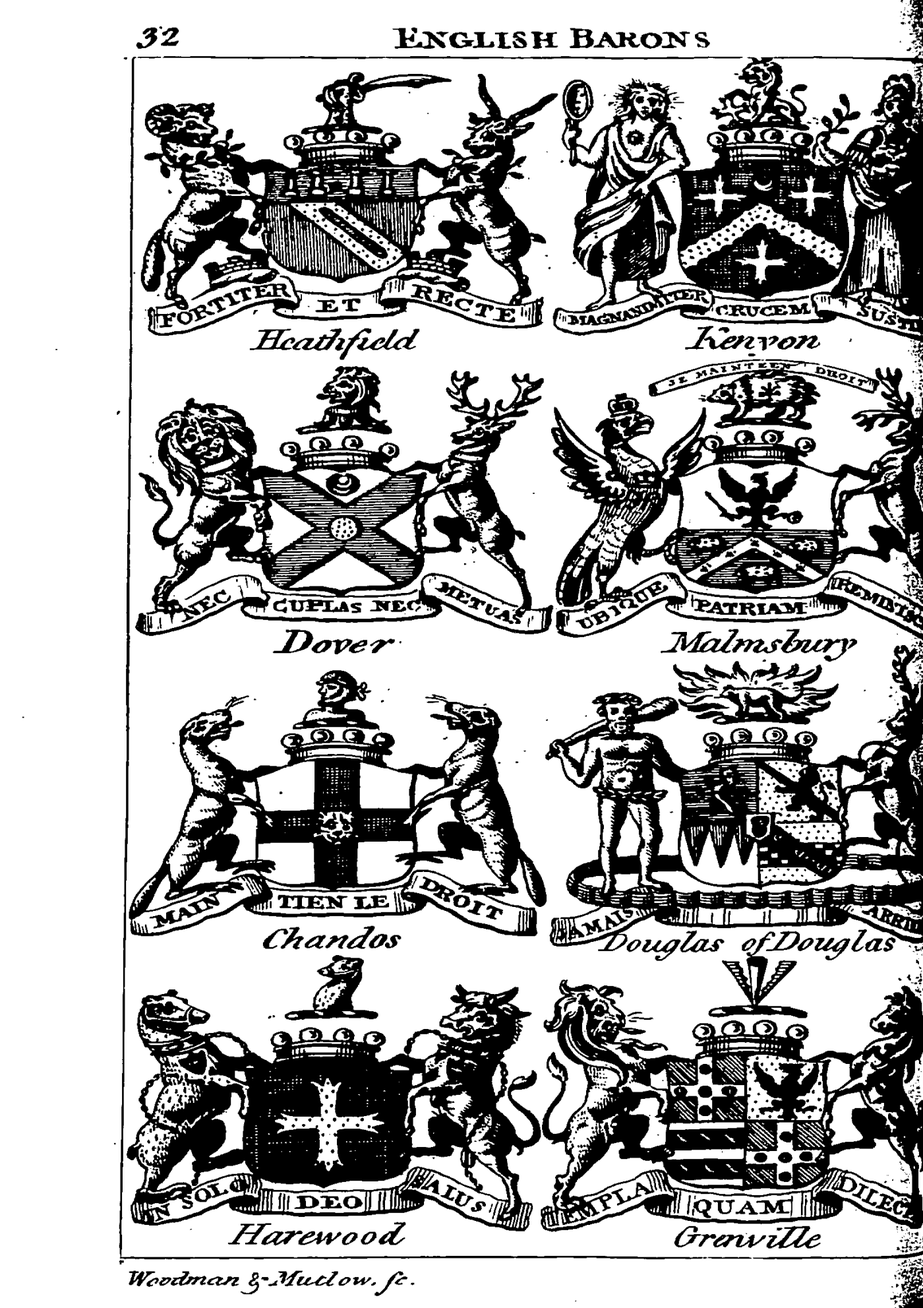coat_of_arms: (138, 350, 558, 664), (133, 663, 551, 957), (129, 959, 534, 1245), (143, 61, 542, 350), (535, 956, 923, 1249), (558, 351, 923, 662), (549, 667, 923, 960), (552, 67, 923, 354)
